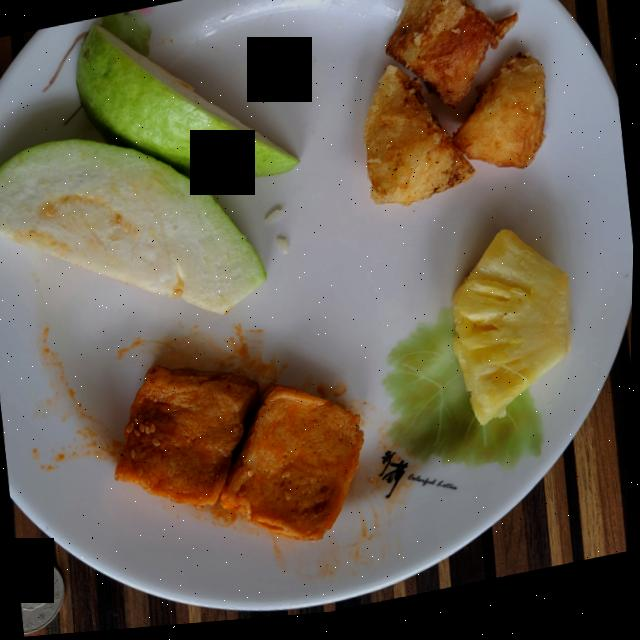coin: (18, 559, 66, 636)
creamy tofu: (116, 368, 364, 546)
fried potato: (363, 0, 545, 212)
guava -sliced-: (0, 27, 298, 318)
pineapple: (453, 238, 572, 433)
